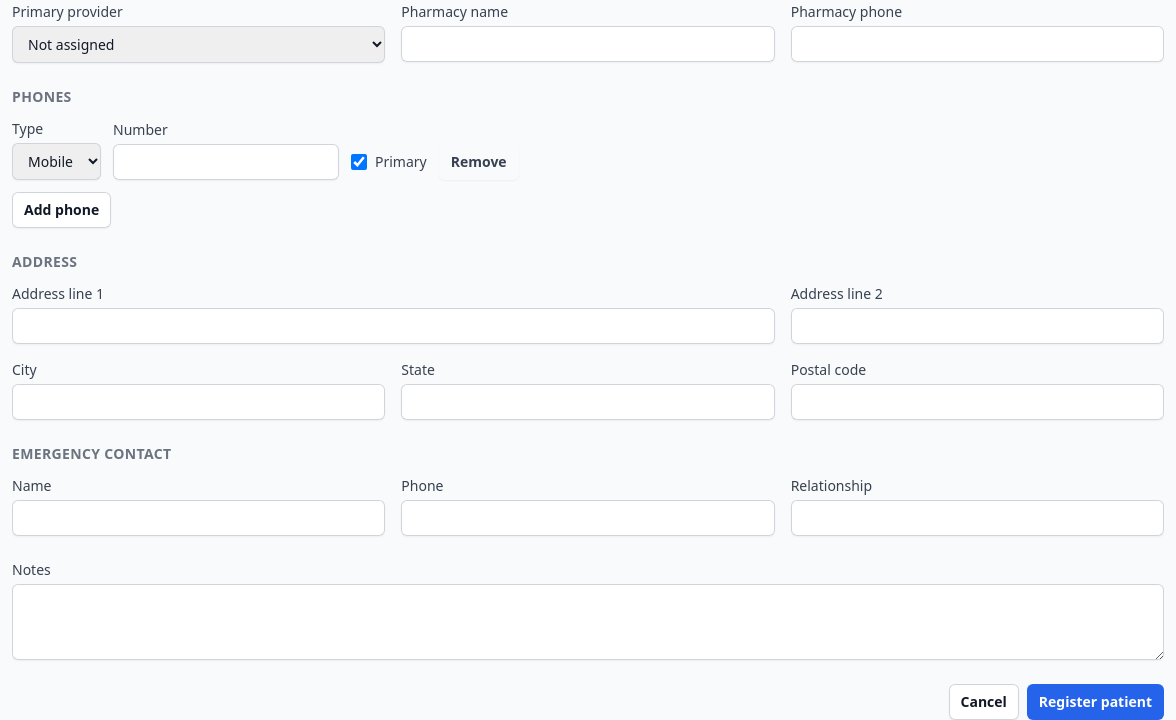
Test: PatientForm › requires name and date of birth
The width and height of the screenshot is (1176, 720).
(page scrolled)
Click the button "Register patient" at (1095, 702), box [1027,684,1164,719]
(page scrolled)
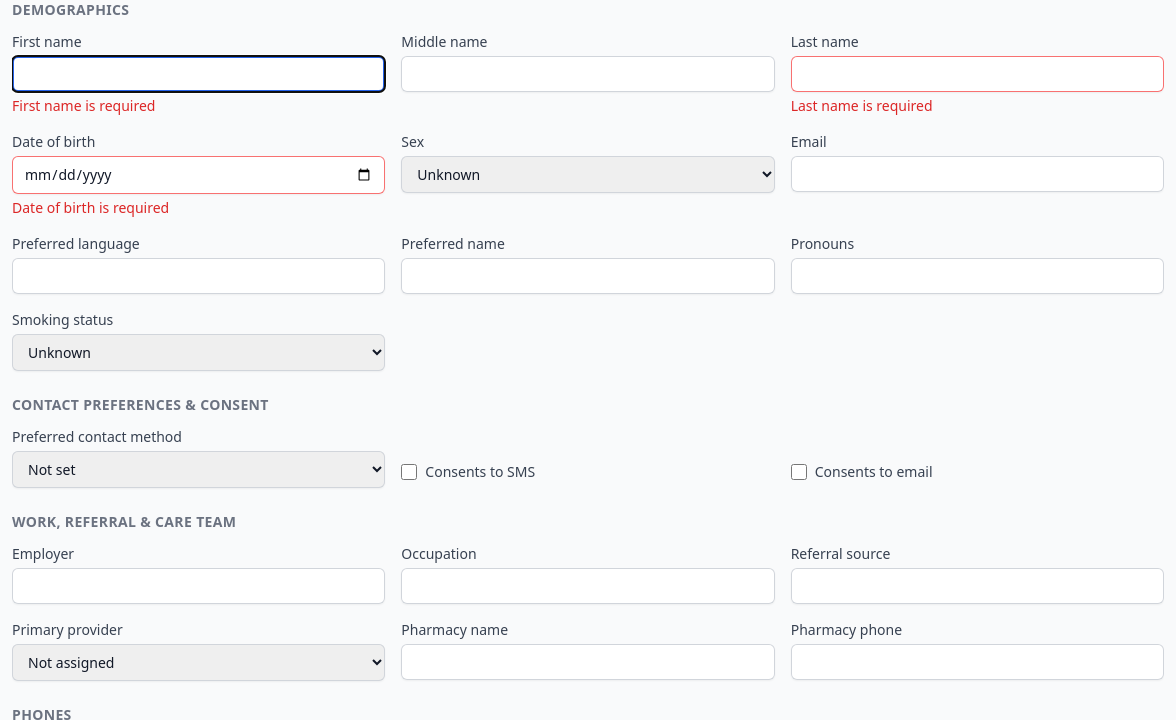
Result: the text "First name is required" is shown at [12,96,155,115]
Result: the text "Last name is required" is shown at [791,96,933,115]
Result: the text "Date of birth is required" is shown at [12,198,169,217]
